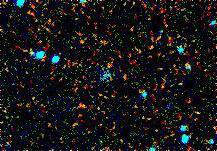star: (15, 31, 45, 61)
